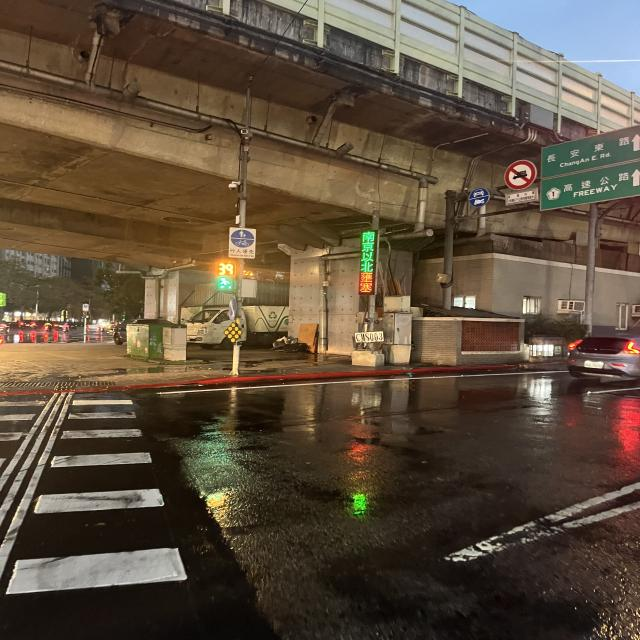green light: (214, 260, 237, 296)
